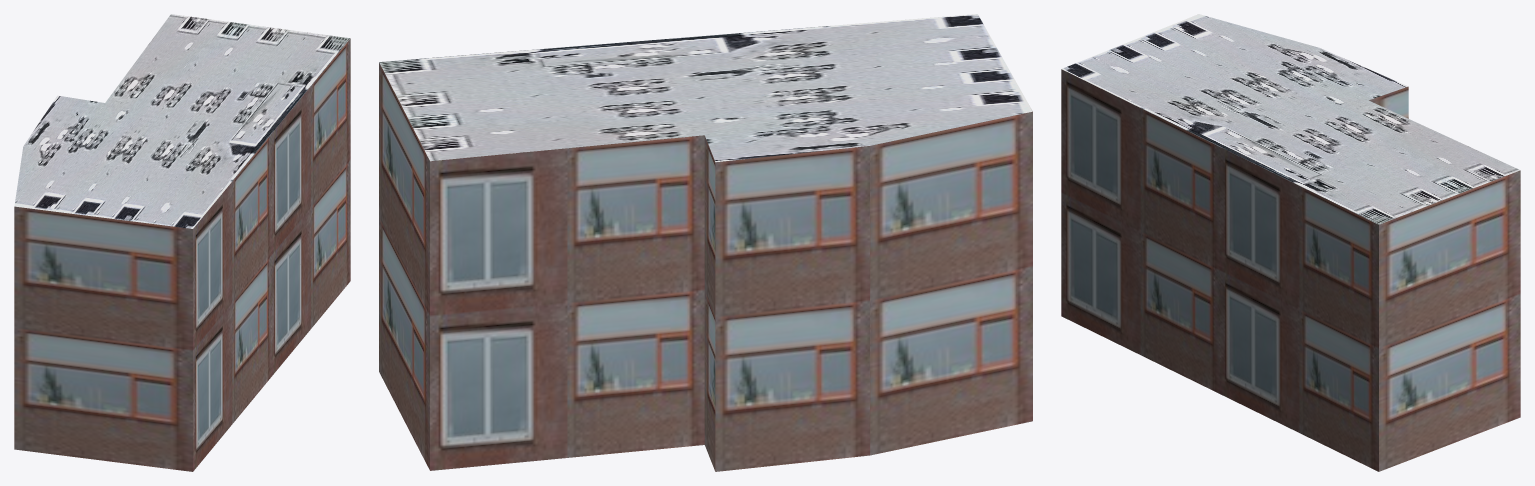
The model's file is ResTex__3116.fbx.
3 renders of one model, left to right at view 1: azimuth 30°, elevation 25°; view 2: azimuth 150°, elevation 25°; view 3: azimuth 270°, elevation 25°, orthographic. The views are drawn at different scales.
Visible parts, largest first — view 1: CityEngineMaterial_19_m, CityEngineMaterial_15_m; view 2: CityEngineMaterial_19_m, CityEngineMaterial_15_m; view 3: CityEngineMaterial_19_m, CityEngineMaterial_15_m.
Boxes of the visible parts, bbox=[...] form: CityEngineMaterial_19_m: bbox=[14, 38, 350, 471]; CityEngineMaterial_15_m: bbox=[14, 14, 349, 228]; CityEngineMaterial_19_m: bbox=[379, 62, 1032, 471]; CityEngineMaterial_15_m: bbox=[379, 14, 1032, 162]; CityEngineMaterial_19_m: bbox=[1061, 69, 1520, 471]; CityEngineMaterial_15_m: bbox=[1061, 14, 1520, 224].
Size of the model in its own units: 10.97 by 6 by 10.11.
Materials: 2 (2 with a texture image).
